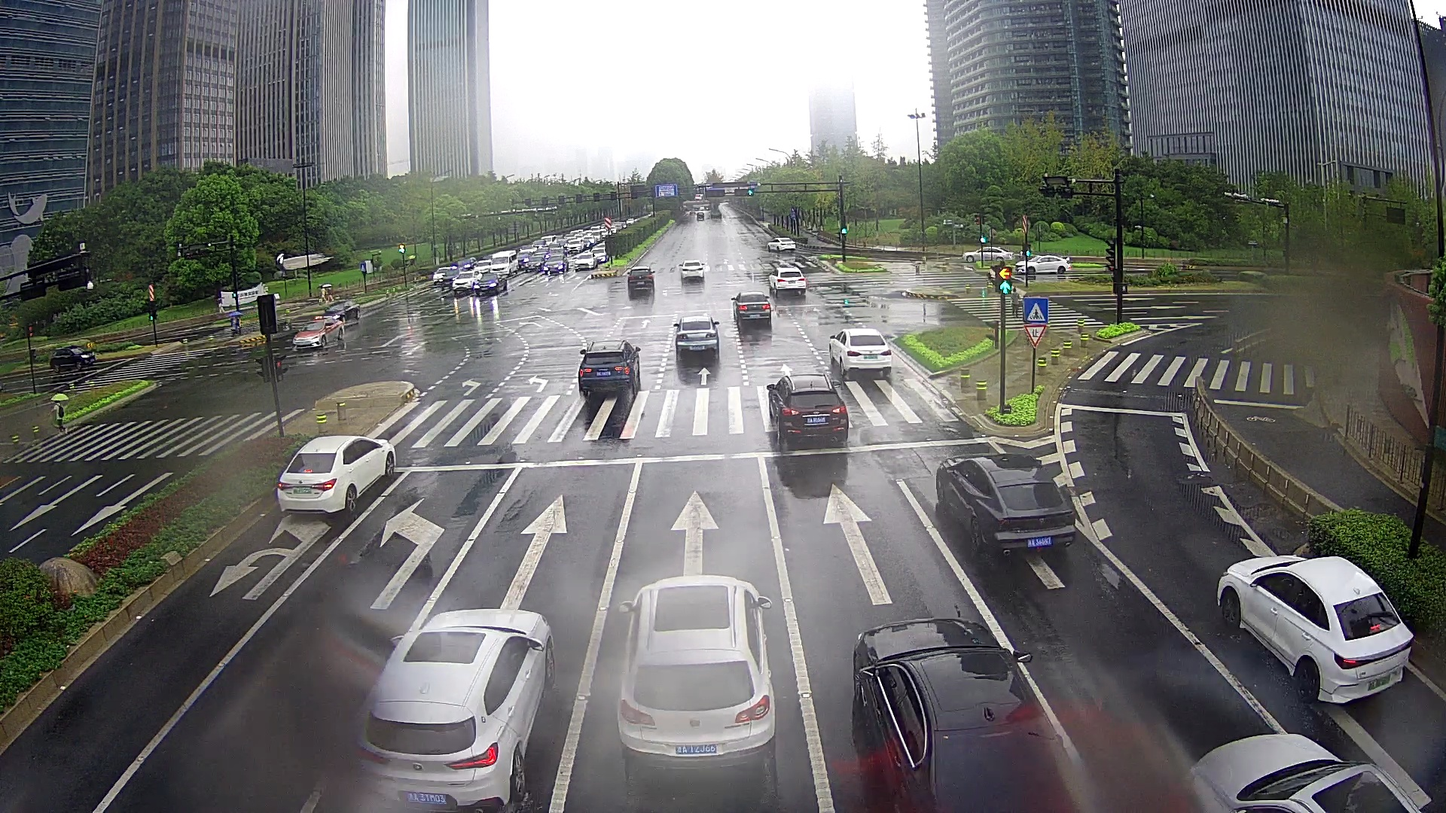vehicle: (358, 605, 558, 811), (848, 615, 1059, 810), (614, 569, 777, 779), (1213, 543, 1417, 708), (932, 449, 1078, 559), (273, 431, 397, 517), (761, 373, 853, 448), (575, 338, 645, 402), (825, 325, 892, 376), (671, 312, 721, 360), (289, 314, 348, 352), (730, 291, 773, 329), (767, 264, 810, 297), (45, 343, 99, 369), (625, 263, 657, 294), (474, 271, 505, 294), (682, 257, 706, 276)
